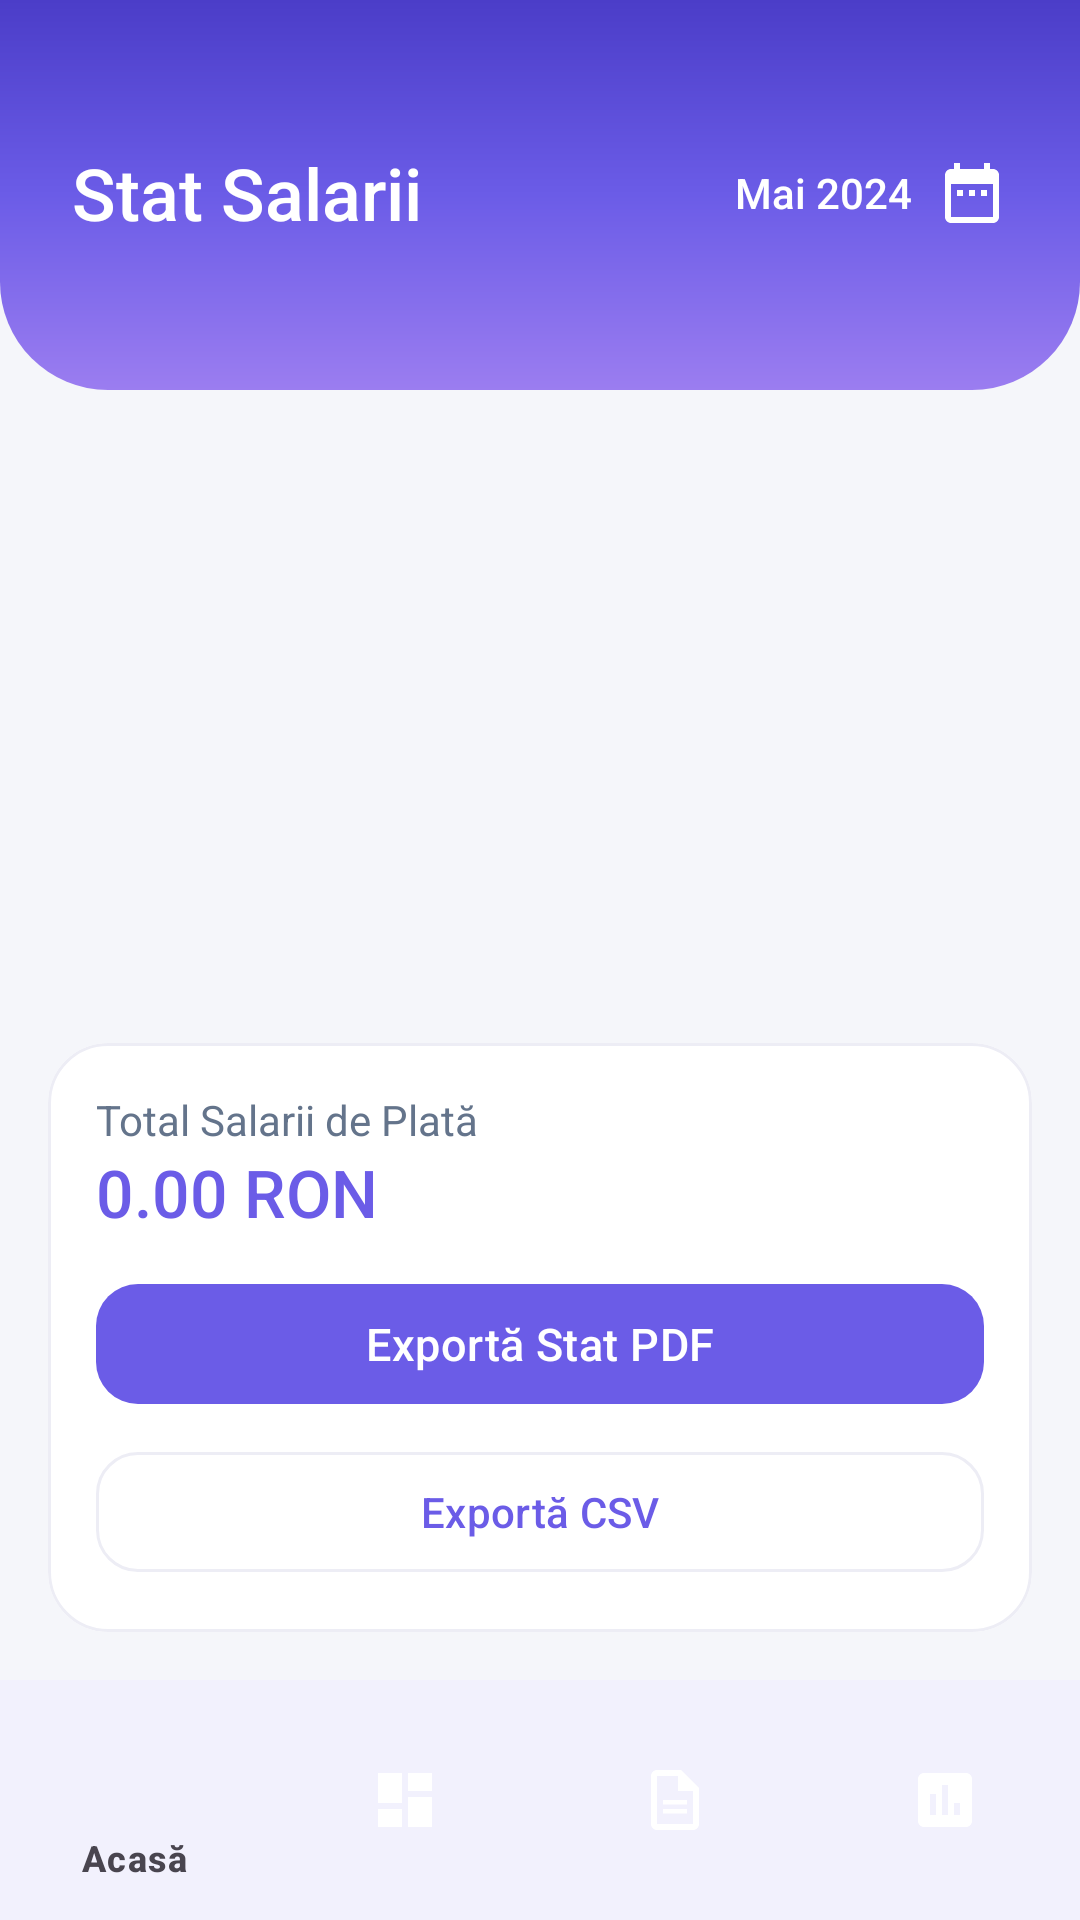

Locate icon controls on the screen. Image size 1080*1920, boxes as (x1, y1, x2, y2).
calendar: (945, 163, 999, 223)
